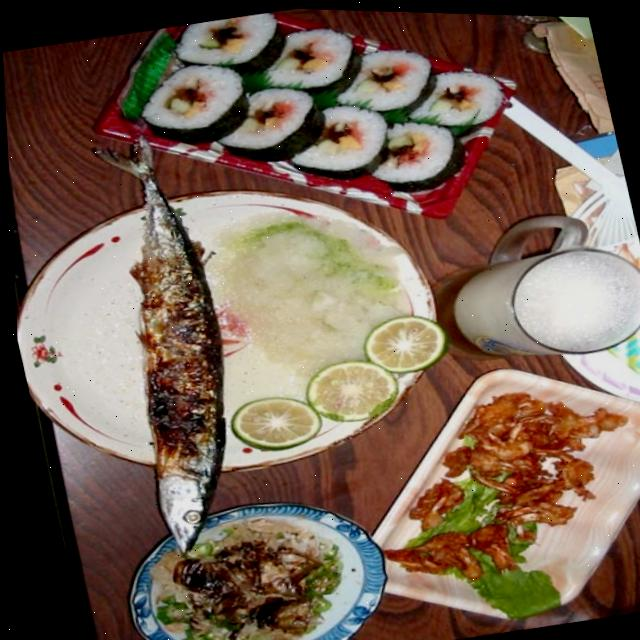熟制海鲜: (54, 126, 268, 565)
